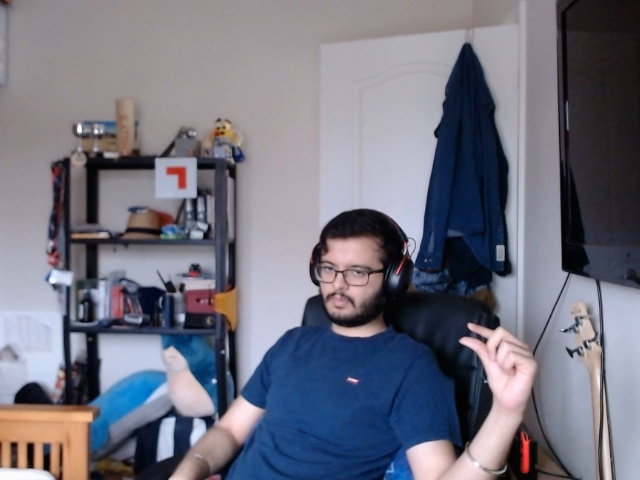Small: (455, 321, 557, 402)
